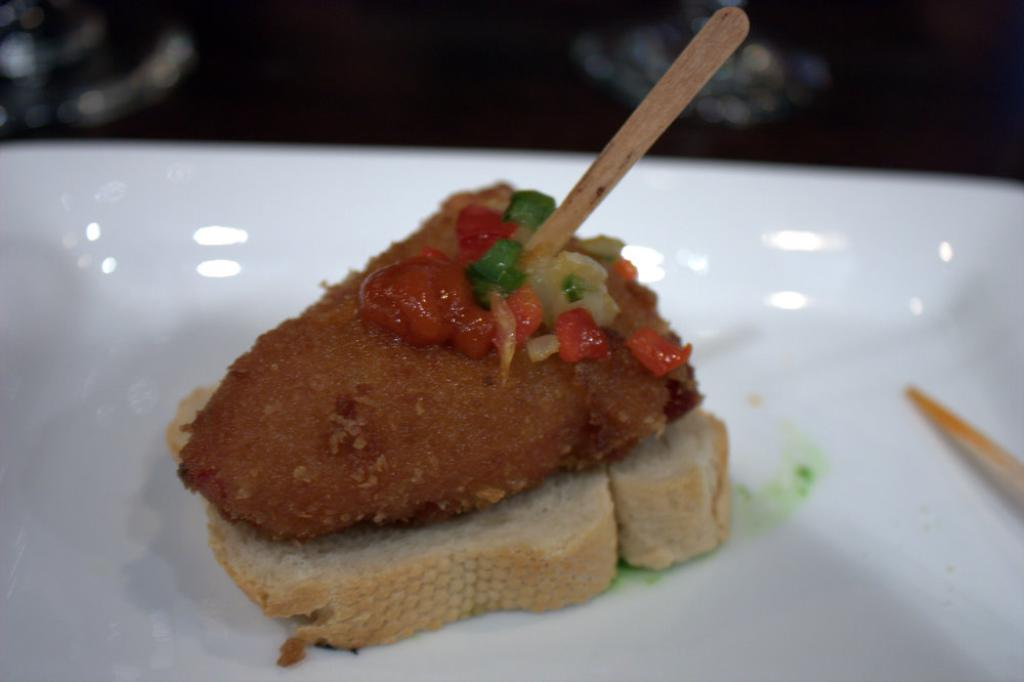sandwich: (166, 168, 728, 650)
